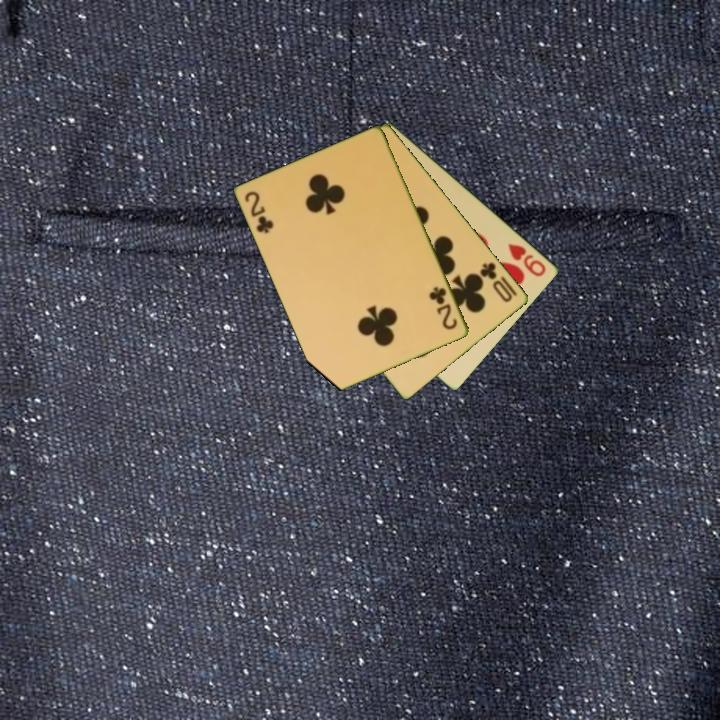10c: (476, 259, 516, 305)
2c: (426, 283, 461, 333), (241, 188, 277, 236)
9h: (504, 240, 549, 279)
